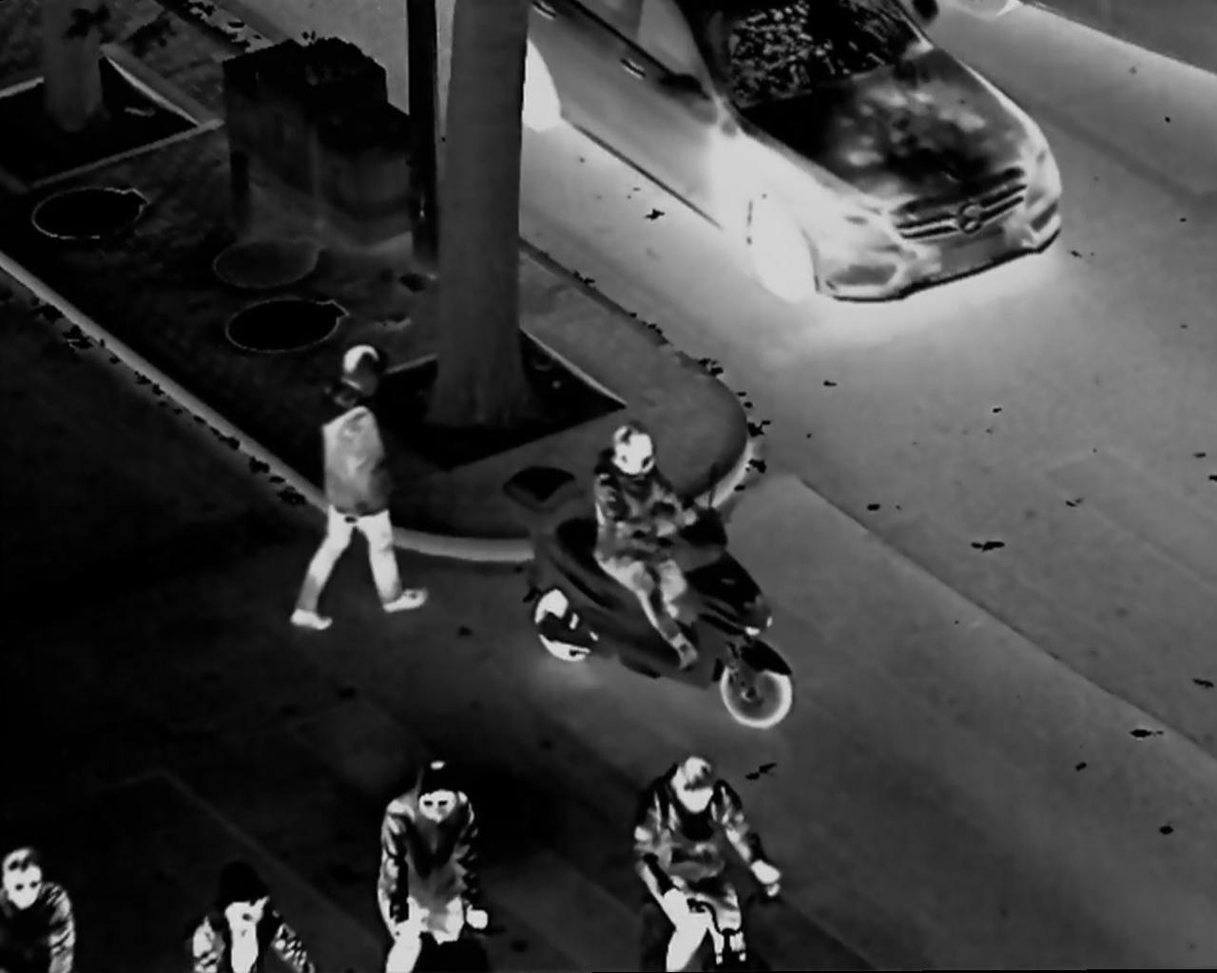person: (290, 344, 428, 638), (624, 753, 788, 973), (585, 414, 711, 673), (376, 756, 500, 973), (182, 872, 320, 973)
